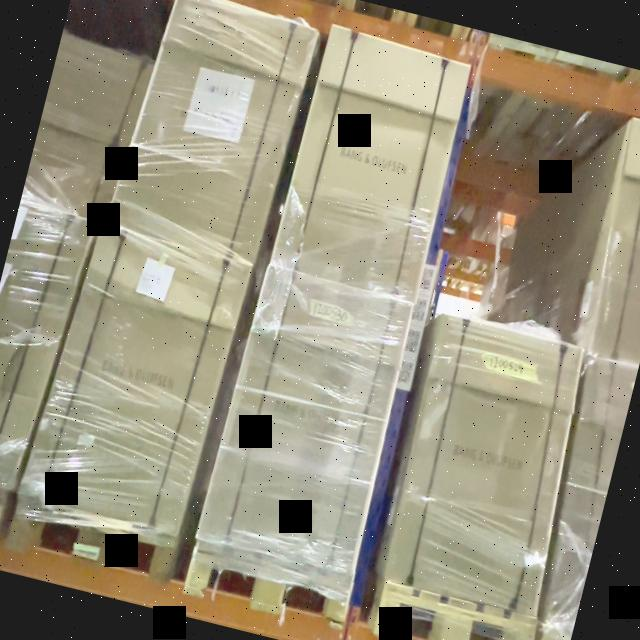box: (17, 224, 249, 536), (197, 265, 414, 580), (384, 314, 584, 615), (108, 0, 319, 265), (271, 25, 470, 301)
